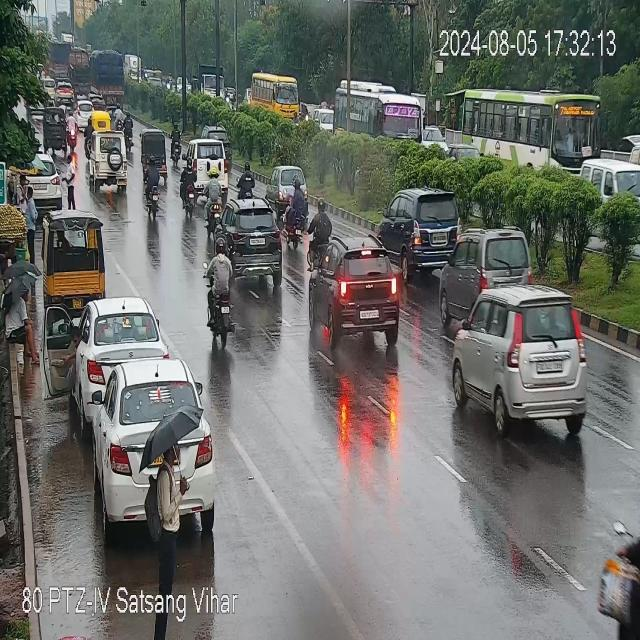2-wheelers: (200, 249, 239, 351), (280, 183, 310, 245), (180, 163, 205, 218), (198, 173, 223, 226), (144, 162, 163, 218), (231, 170, 263, 203), (312, 200, 332, 250), (171, 120, 181, 166), (66, 108, 76, 152), (124, 112, 134, 151), (114, 102, 124, 130)
auto: (44, 212, 106, 312), (140, 131, 170, 178), (91, 110, 115, 132)
bus: (459, 90, 606, 179), (332, 83, 423, 146), (244, 70, 308, 117)
car: (85, 364, 210, 541), (463, 294, 595, 436), (72, 299, 167, 400), (312, 240, 398, 328), (443, 233, 535, 315), (386, 190, 462, 268), (211, 200, 288, 269), (87, 130, 133, 192), (585, 161, 640, 211), (187, 138, 233, 177), (34, 154, 62, 212), (274, 165, 306, 198), (207, 120, 233, 159)
pedestrian: (147, 438, 197, 572), (8, 291, 37, 363), (26, 184, 38, 257), (64, 153, 76, 207), (18, 175, 25, 208)
truck: (68, 49, 131, 97)
